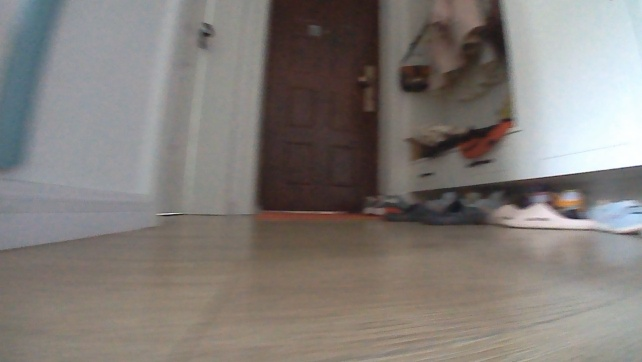door_anno: (256, 0, 380, 212)
